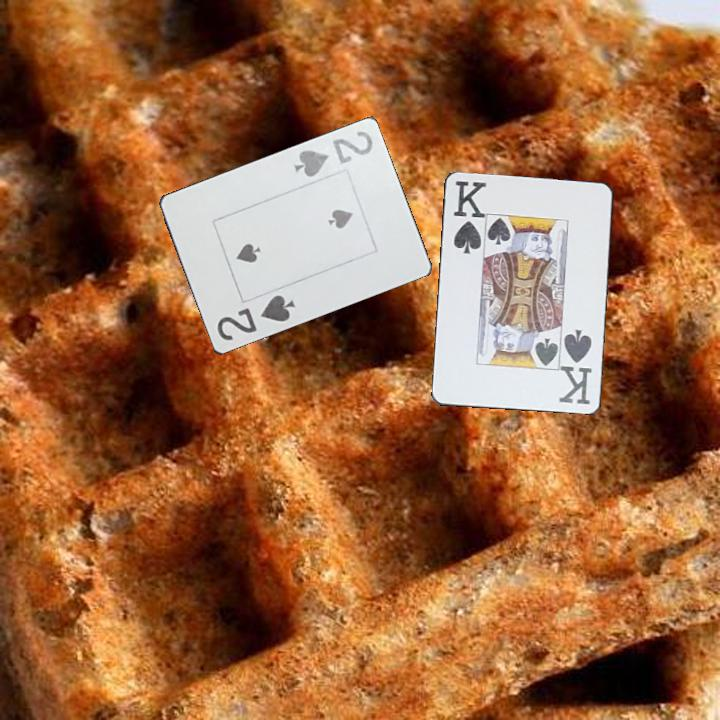2s: (290, 128, 376, 181), (213, 292, 298, 344)
Ks: (558, 326, 595, 408), (450, 177, 487, 257)
